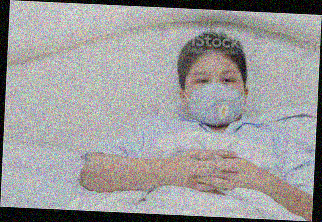with_mask: (185, 64, 245, 128)
